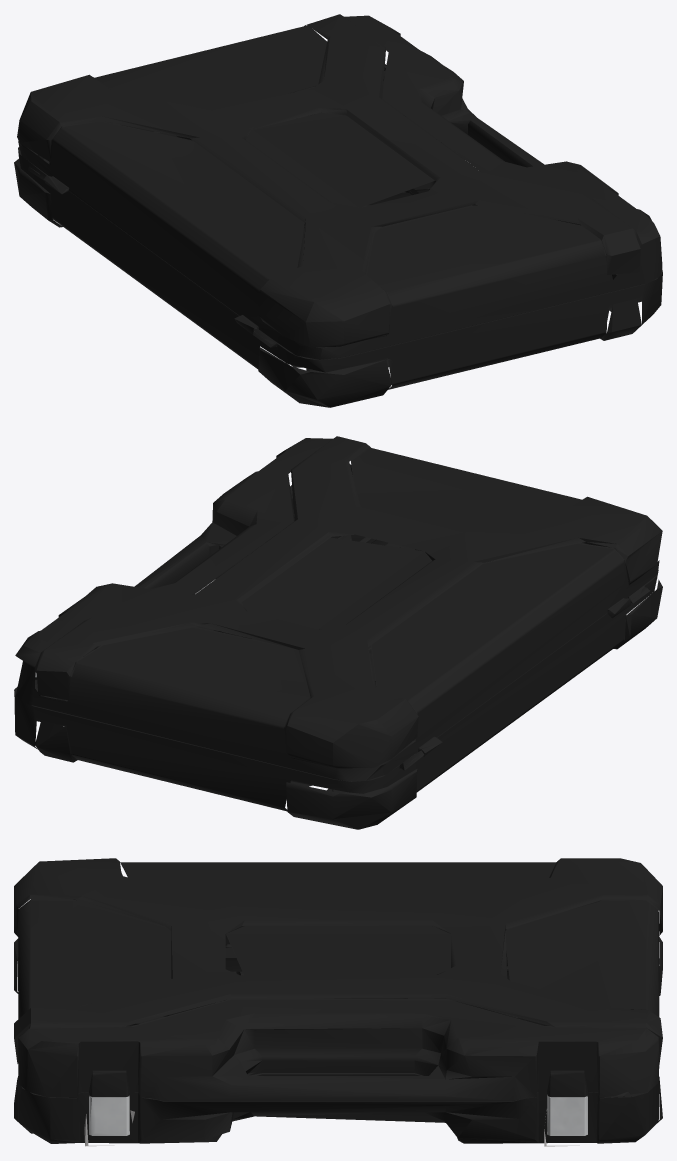
File: p_toolcase.glb
3 renders of one model, top to bottom at view 1: azimuth 30°, elevation 25°; view 2: azimuth 150°, elevation 25°; view 3: azimuth 270°, elevation 25°, orthographic. The views are drawn at different scales.
Parts seen in each view (by area): view 1: p_toolcase_mesh; view 2: p_toolcase_mesh; view 3: p_toolcase_mesh.
Part boxes in pixels (x1=…): p_toolcase_mesh: x1=14, y1=14, x2=662, y2=407; p_toolcase_mesh: x1=14, y1=436, x2=662, y2=829; p_toolcase_mesh: x1=14, y1=858, x2=662, y2=1146.
Size of the model in its own units: 0.327 by 0.0861 by 0.4561.
4 materials, 1 textured.
